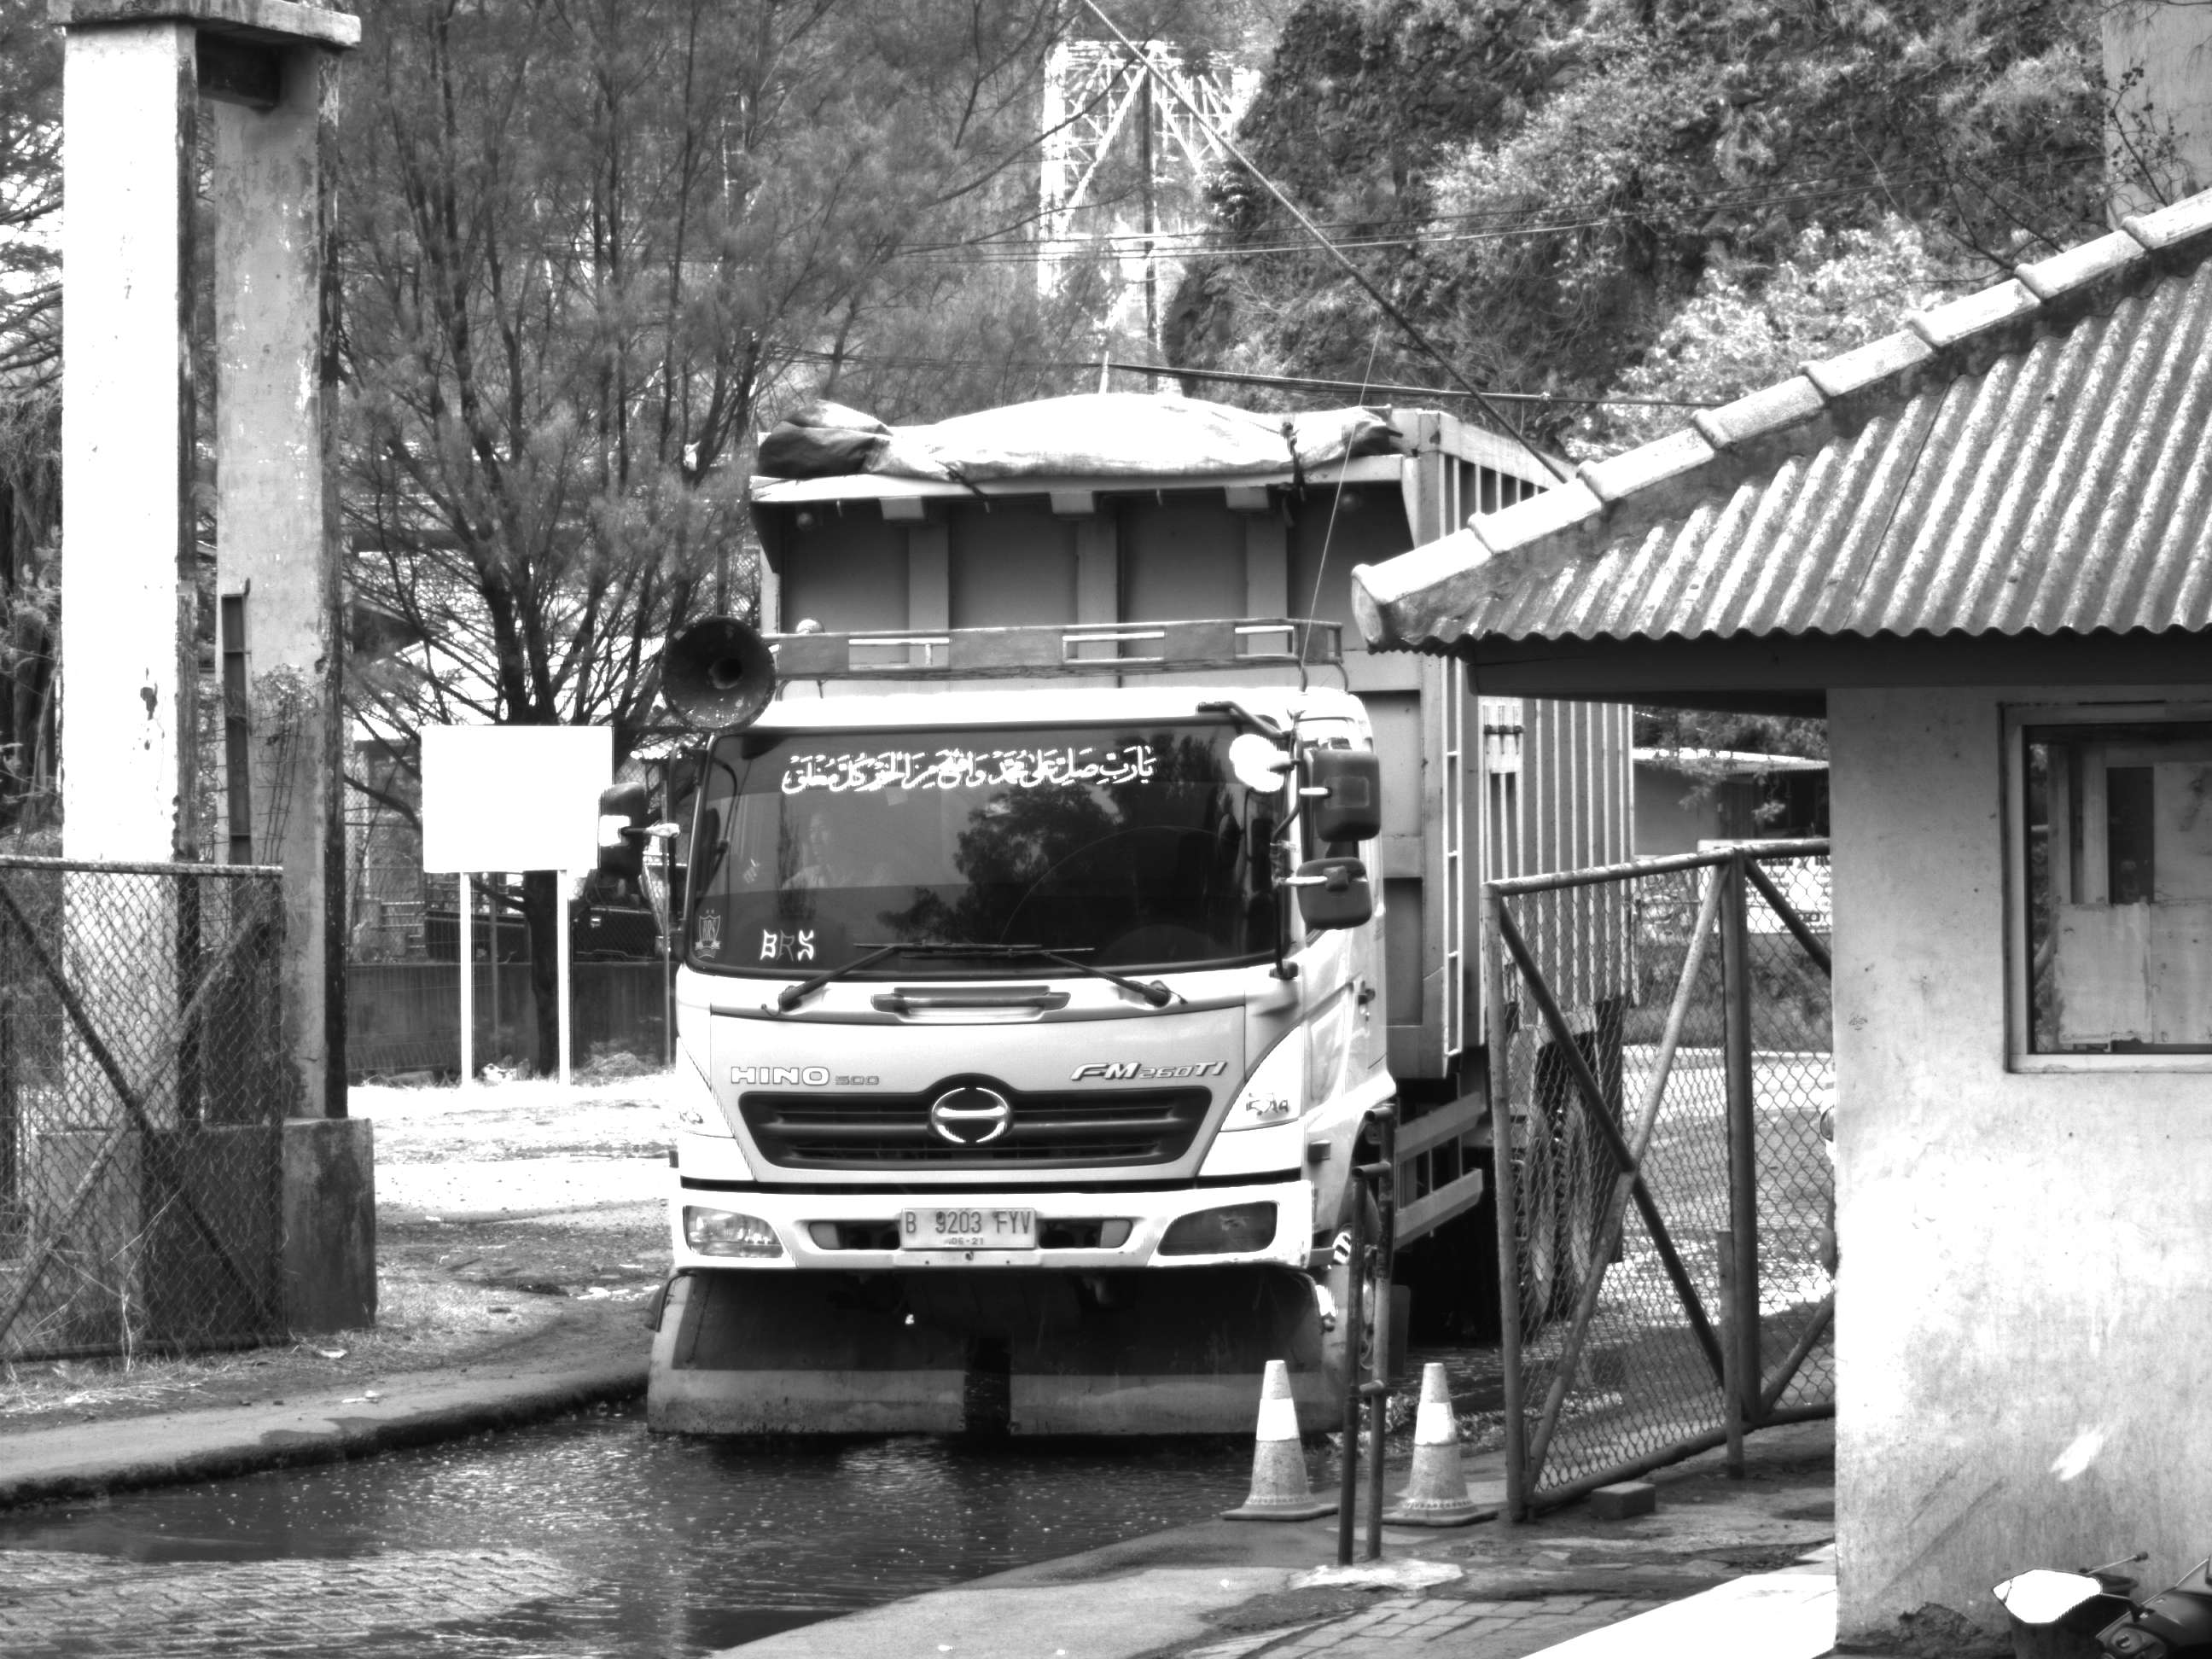day_truck_front: (649, 412, 1410, 1438)
plate: (894, 1209, 1053, 1255)
